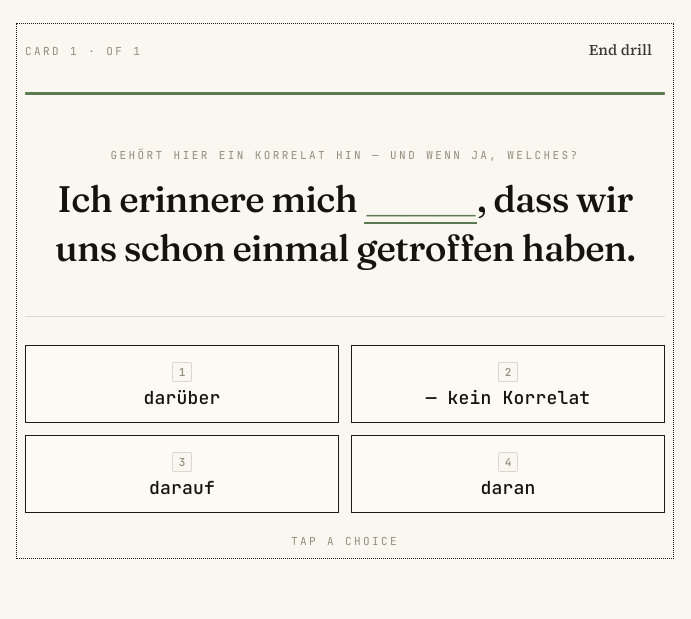
Scenario: KorrelatRunner — smoke tests › accepts KEIN_KORRELAT as correct for an optional item
What coordinates should you click on to do the following:
click the button with class "choice" showing "2 — kein Korrelat"
I would click on:
 (508, 384)
Its box is [351, 345, 665, 423].
(page scrolled)
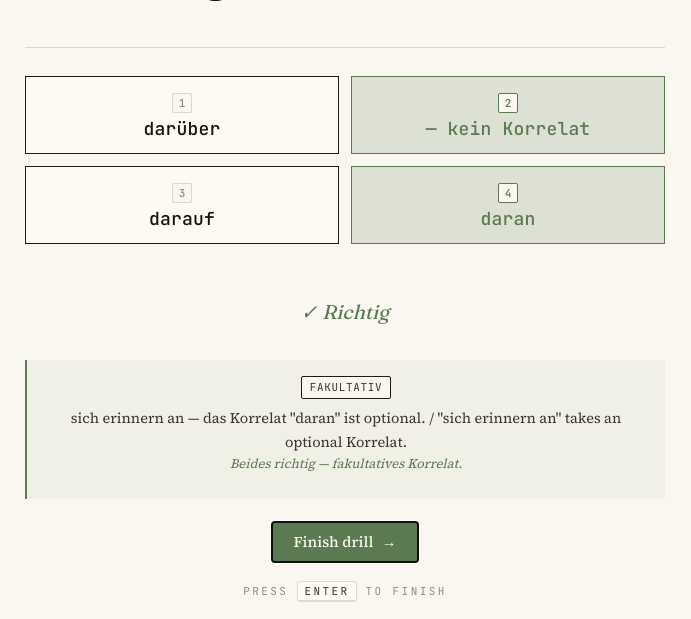
Expected: the text "✓ Richtig" is shown, [301, 296, 389, 328]
Expected: the text "fakultatives Korrelat" is shown, [230, 455, 462, 472]
